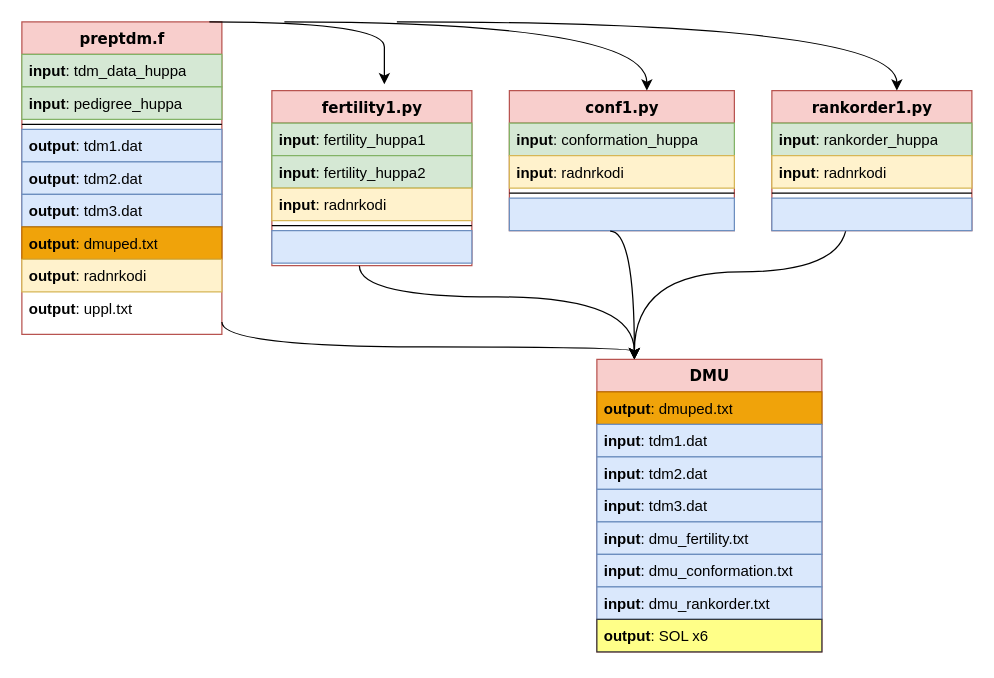
The diagram is 994 pixels wide and 678 high, and some of its shapes have lost their labels. The shapes that lost their labels are listed below. From the top down, each one's centre as x and y in pixels, then its label:
At (x=621, y=214): "output : dmu_conformation.txt".
At (x=871, y=214): "output : dmu_rankorder.txt".
At (x=371, y=246): "output : dmu_fertility.txt".
